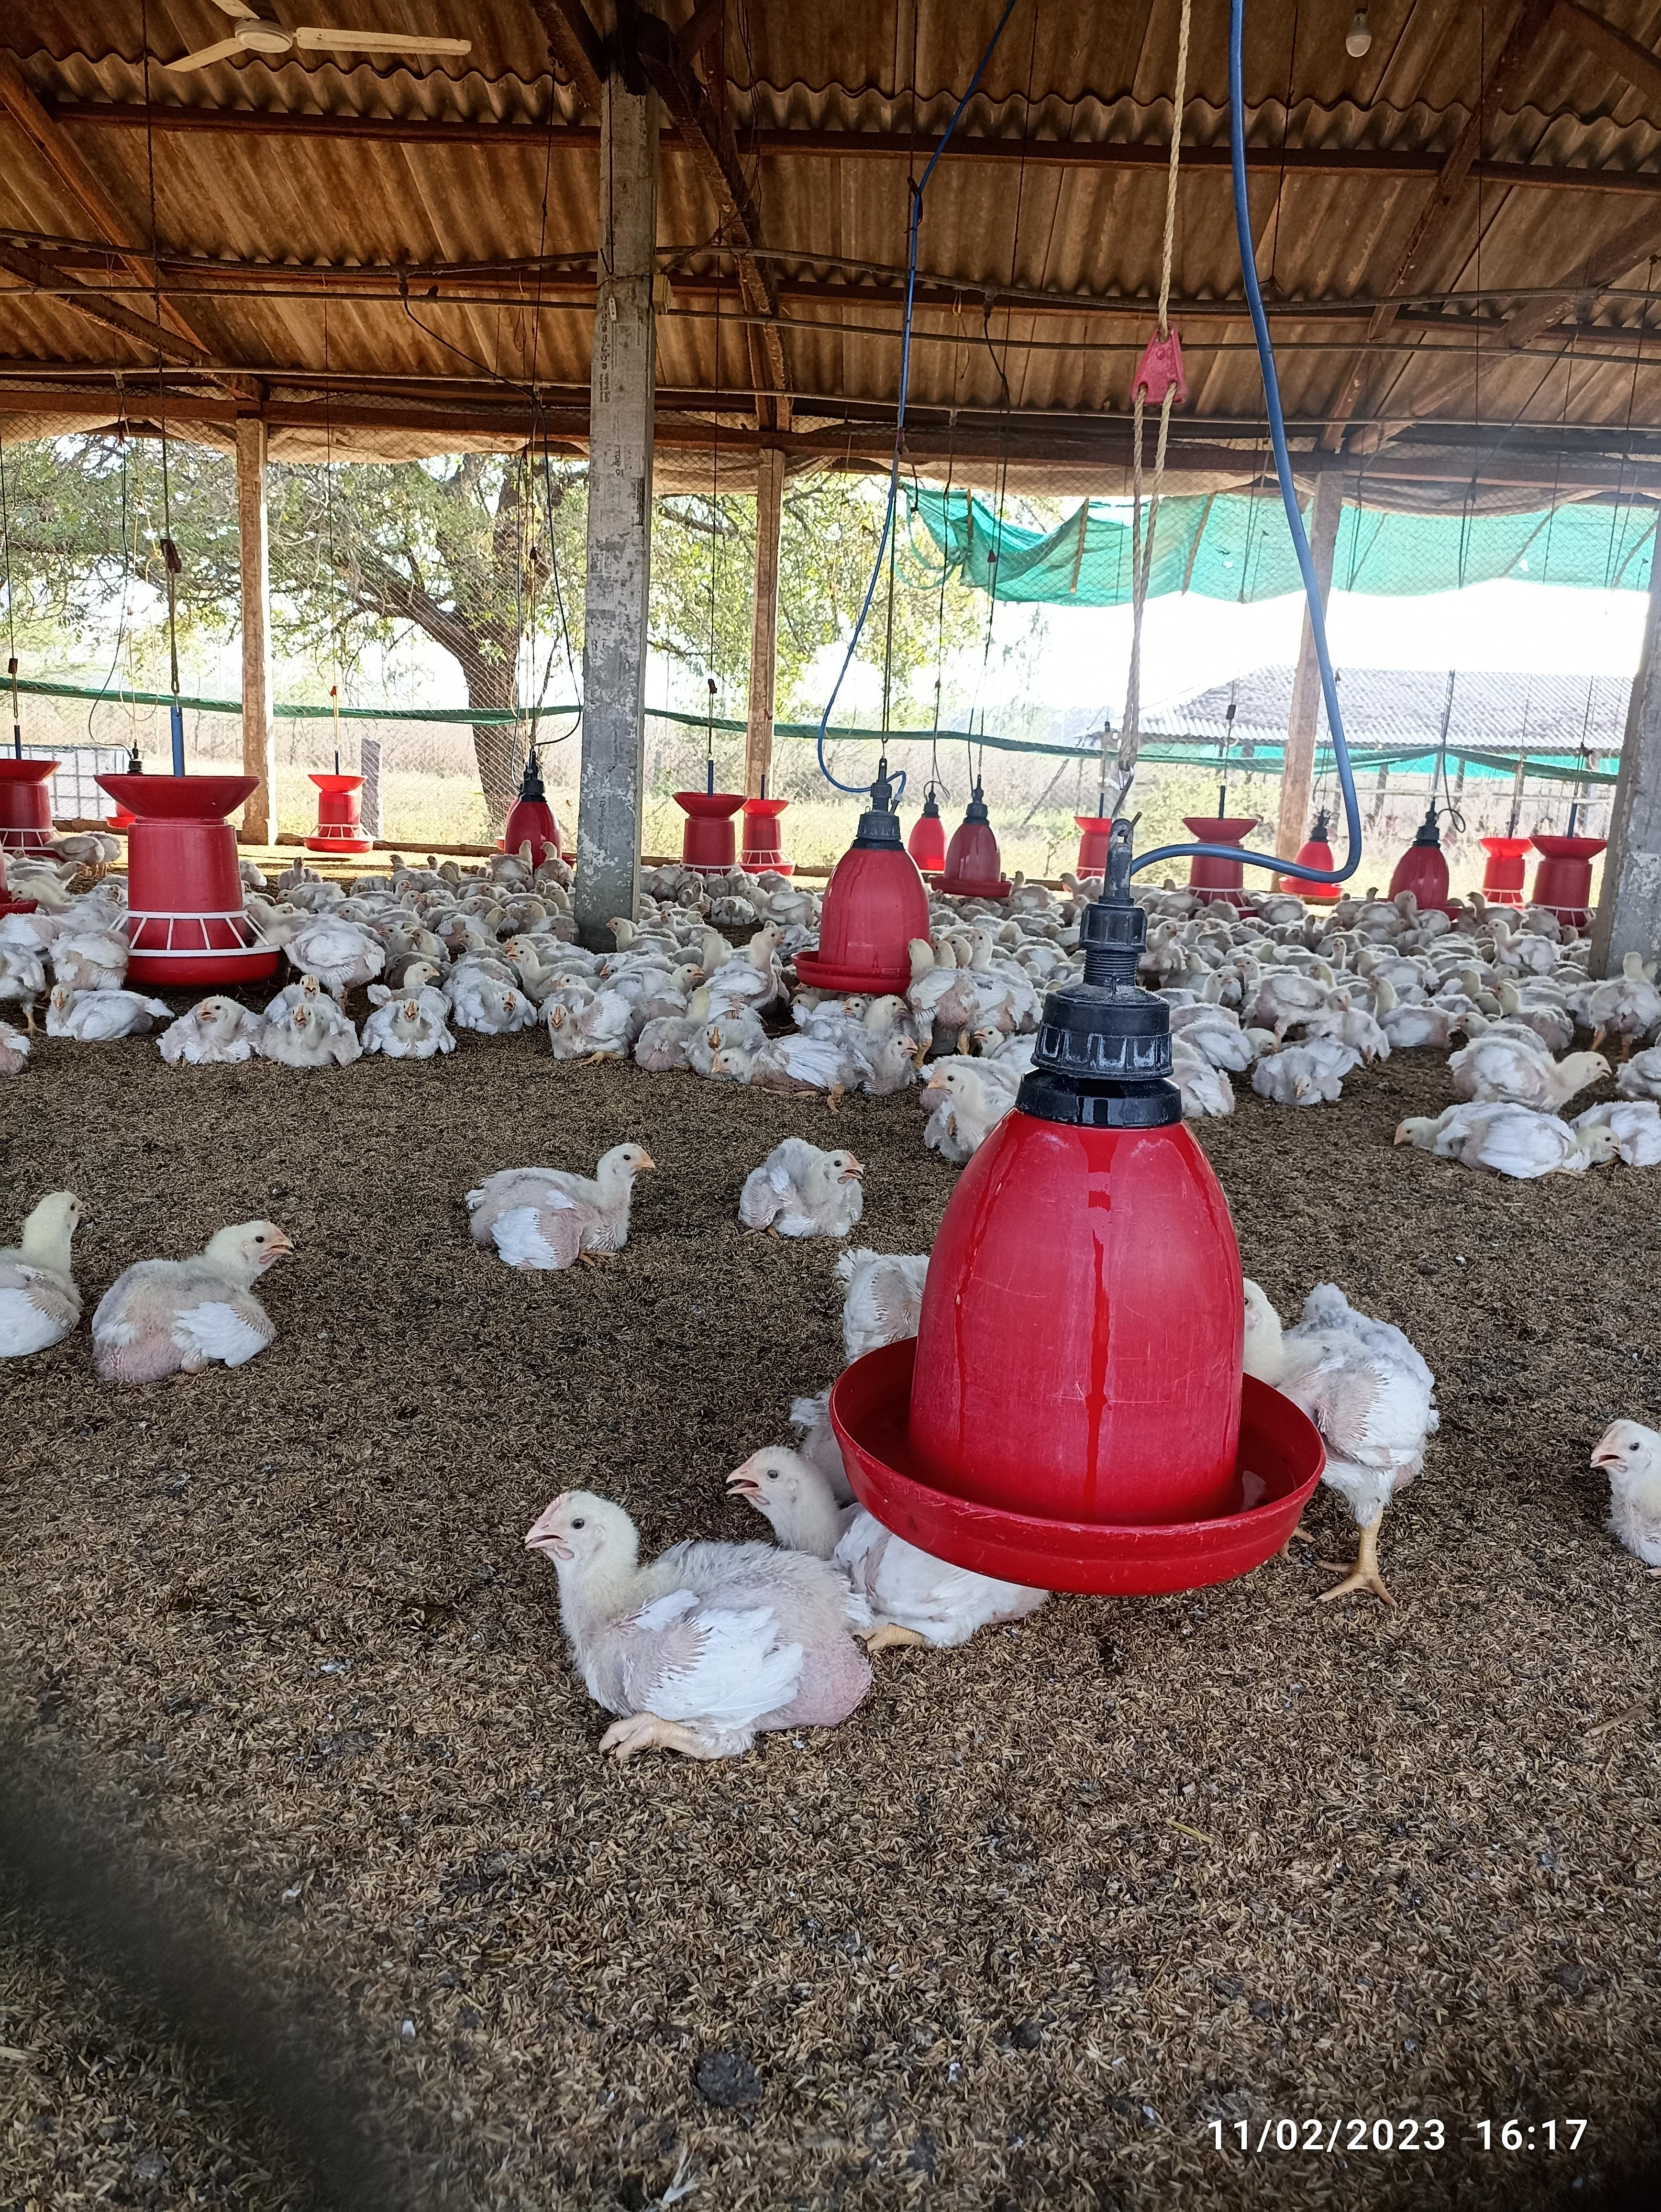Pollos: (522, 1483, 869, 1743), (92, 1218, 302, 1403), (464, 1132, 649, 1275), (1401, 1103, 1584, 1186), (743, 1136, 865, 1230), (251, 900, 382, 979), (1467, 1041, 1610, 1094), (925, 1059, 1003, 1151), (164, 998, 255, 1069), (708, 926, 785, 1008), (543, 1005, 626, 1059), (848, 1026, 911, 1094), (283, 1003, 347, 1068), (457, 979, 534, 1031), (1263, 1045, 1329, 1103), (386, 1001, 448, 1055), (705, 1017, 743, 1055)
